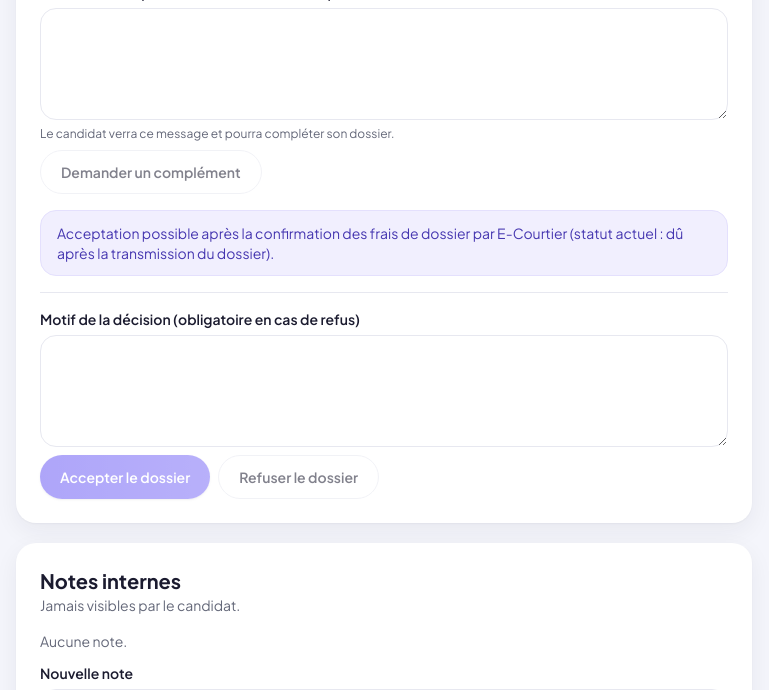
it: Dossier locatif — propriétaire ou agent › affiche le dossier transmis, les notes internes et les décisions
(page scrolled)
Expected: the heading "Notes internes" is shown, [40, 568, 181, 593]
Expected: the button "Refuser le dossier" is disabled, [218, 455, 379, 499]
Type "Revenus insuffisants" into the text box labelled "Motif de la décision (obligatoire en cas de refus)" at (384, 391), box [40, 335, 728, 447]
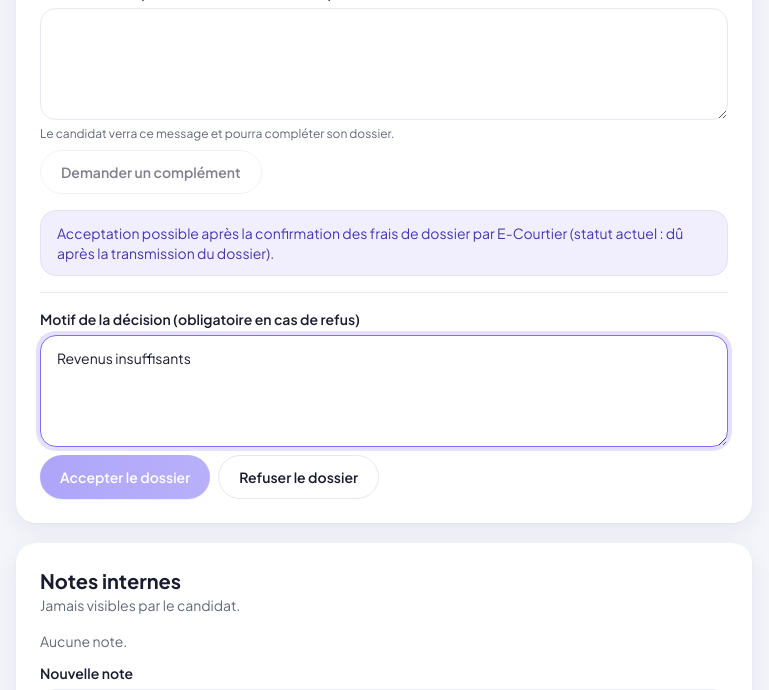
Click the button "Refuser le dossier" at (299, 477), box [218, 455, 379, 499]
(page scrolled)
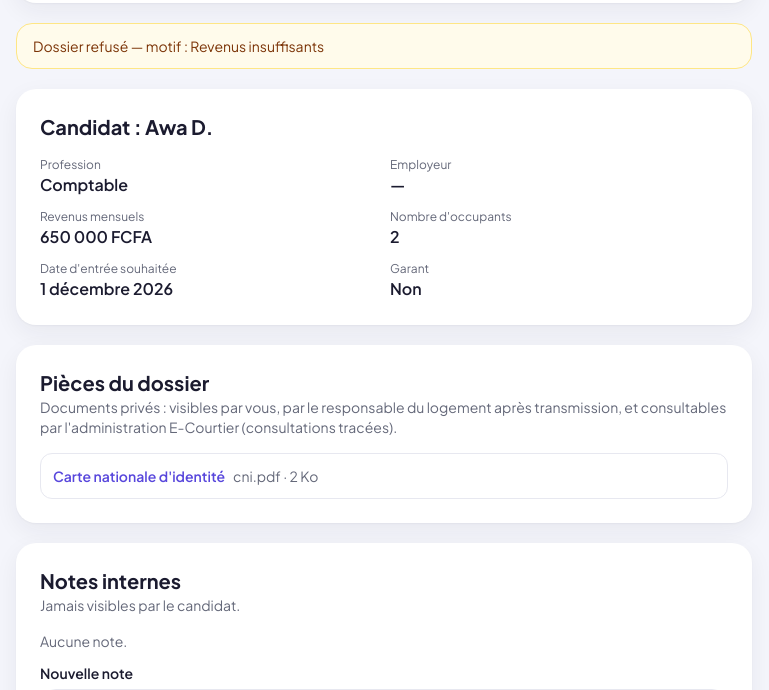
Now the text "Dossier refusé — motif : Revenus insuffisants" is shown, box [33, 36, 324, 56]
